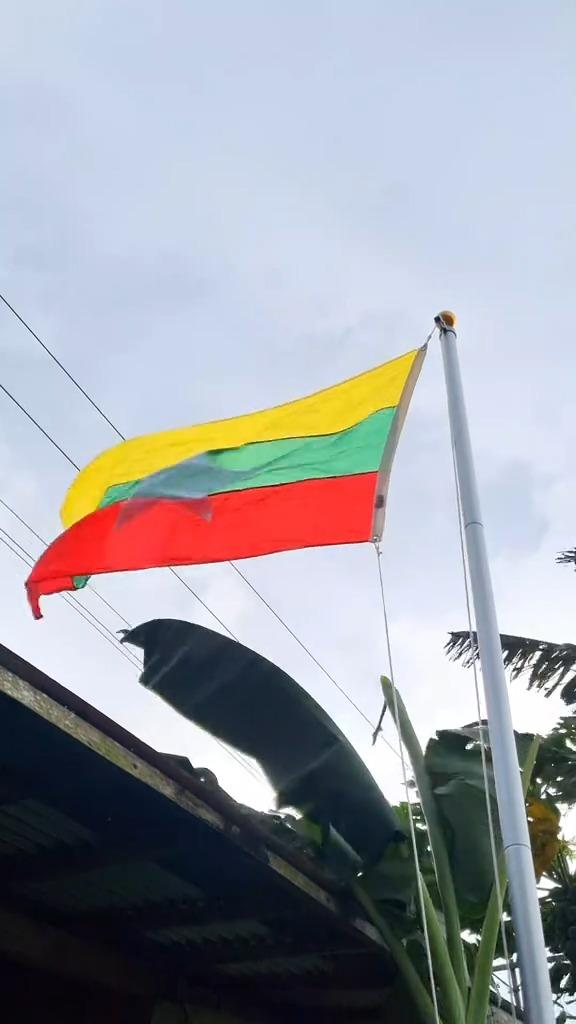Myanmar: (29, 354, 419, 599)
